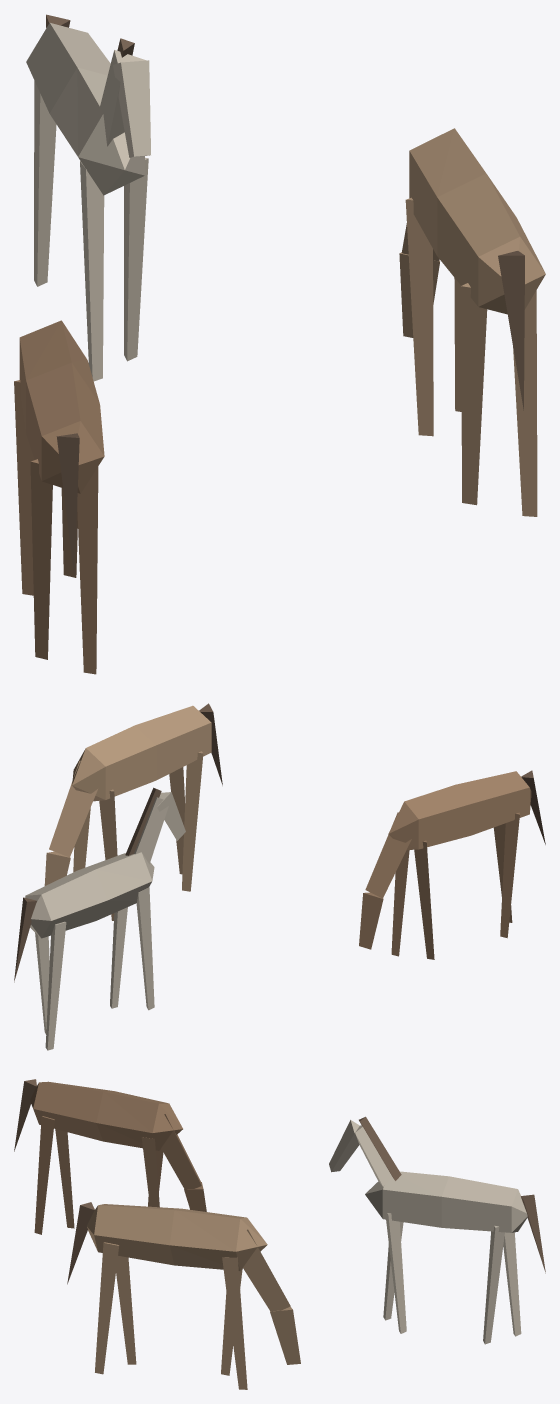
Rendered from horses.glb.
The picture shows the model from 3 angles, top to bottom: view 1: azimuth 30°, elevation 25°; view 2: azimuth 150°, elevation 25°; view 3: azimuth 270°, elevation 25°; orthographic projection. The views are drawn at different scales.
Visible parts, largest first — view 1: LOD0; view 2: LOD0; view 3: LOD0.
Boxes of the visible parts, bbox=[...] form: LOD0: bbox=[14, 14, 545, 674]; LOD0: bbox=[14, 703, 545, 1050]; LOD0: bbox=[14, 1079, 545, 1389].
Size of what is drawn, in the model's own units: 0.7426 by 0.4166 by 0.9795.
